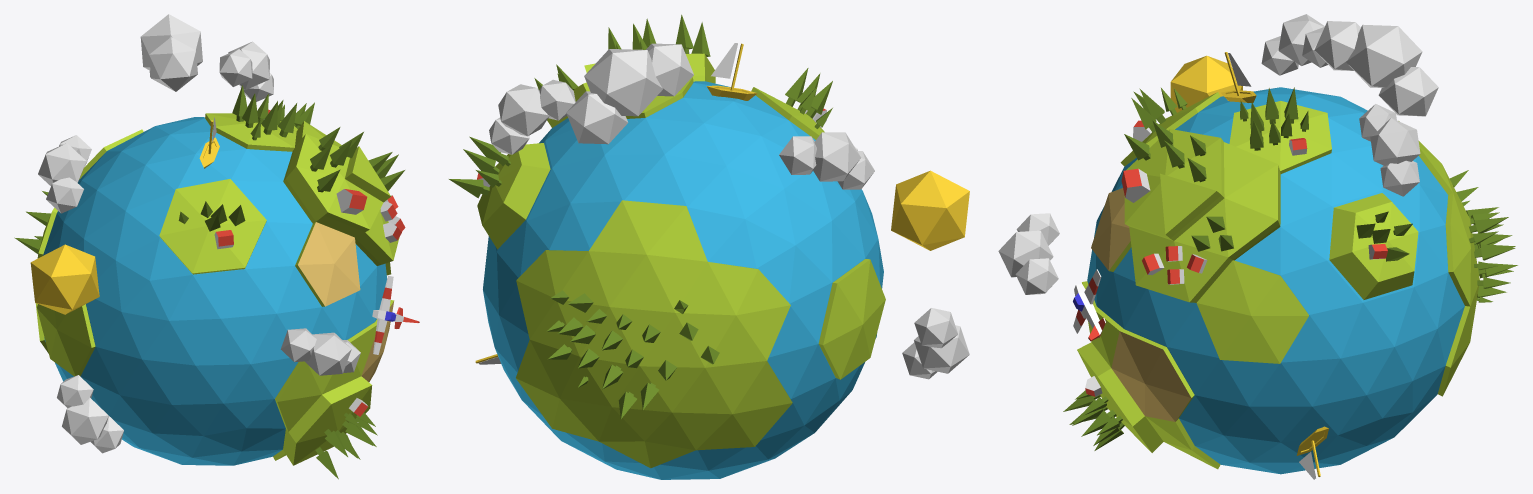
File: planet1.gltf
3 views of the same model, side by side, from view 1: azimuth 30°, elevation 25°; view 2: azimuth 150°, elevation 25°; view 3: azimuth 270°, elevation 25° (orthographic). The views are drawn at different scales.
Parts seen in each view (by area): view 1: Icosphere.001, Icosphere, Icosphere.007, Icosphere.006, Icosphere.005, Icosphere.002, Icosphere.003, Icosphere.004, Plane.066, Plane.055, Plane.064; view 2: Icosphere, Icosphere.001, Icosphere.006, Icosphere.007, Icosphere.004, Icosphere.002, Icosphere.005, Plane.064; view 3: Icosphere.001, Icosphere, Icosphere.006, Icosphere.004, Icosphere.003, Icosphere.002, Icosphere.007, Plane.066, Plane.065, Plane.064, Plane.055.
Boxes of the visible parts, x1,y1,x2,y2 form: Icosphere.001: [43, 117, 386, 465]; Icosphere: [35, 113, 399, 465]; Icosphere.007: [30, 244, 99, 314]; Icosphere.006: [140, 14, 202, 91]; Icosphere.005: [57, 375, 123, 453]; Icosphere.002: [38, 135, 91, 213]; Icosphere.003: [280, 328, 360, 375]; Icosphere.004: [219, 41, 273, 101]; Plane.066: [372, 275, 419, 354]; Plane.055: [336, 189, 367, 214]; Plane.064: [199, 117, 219, 168]; Icosphere: [477, 53, 885, 468]; Icosphere.001: [483, 81, 883, 479]; Icosphere.006: [566, 43, 693, 144]; Icosphere.007: [891, 170, 969, 250]; Icosphere.004: [489, 79, 575, 154]; Icosphere.002: [779, 132, 874, 189]; Icosphere.005: [902, 308, 969, 379]; Plane.064: [706, 43, 757, 100]; Icosphere.001: [1087, 87, 1464, 474]; Icosphere: [1077, 92, 1479, 469]; Icosphere.006: [1314, 21, 1438, 116]; Icosphere.004: [1359, 104, 1420, 196]; Icosphere.003: [998, 213, 1059, 294]; Icosphere.002: [1261, 14, 1327, 75]; Icosphere.007: [1170, 55, 1242, 112]; Plane.066: [1073, 269, 1105, 341]; Plane.065: [1296, 426, 1328, 479]; Plane.064: [1221, 52, 1256, 102]; Plane.055: [1121, 168, 1150, 202].
Bounding box in the file's own units: 2.5 × 2.51 × 2.73.
